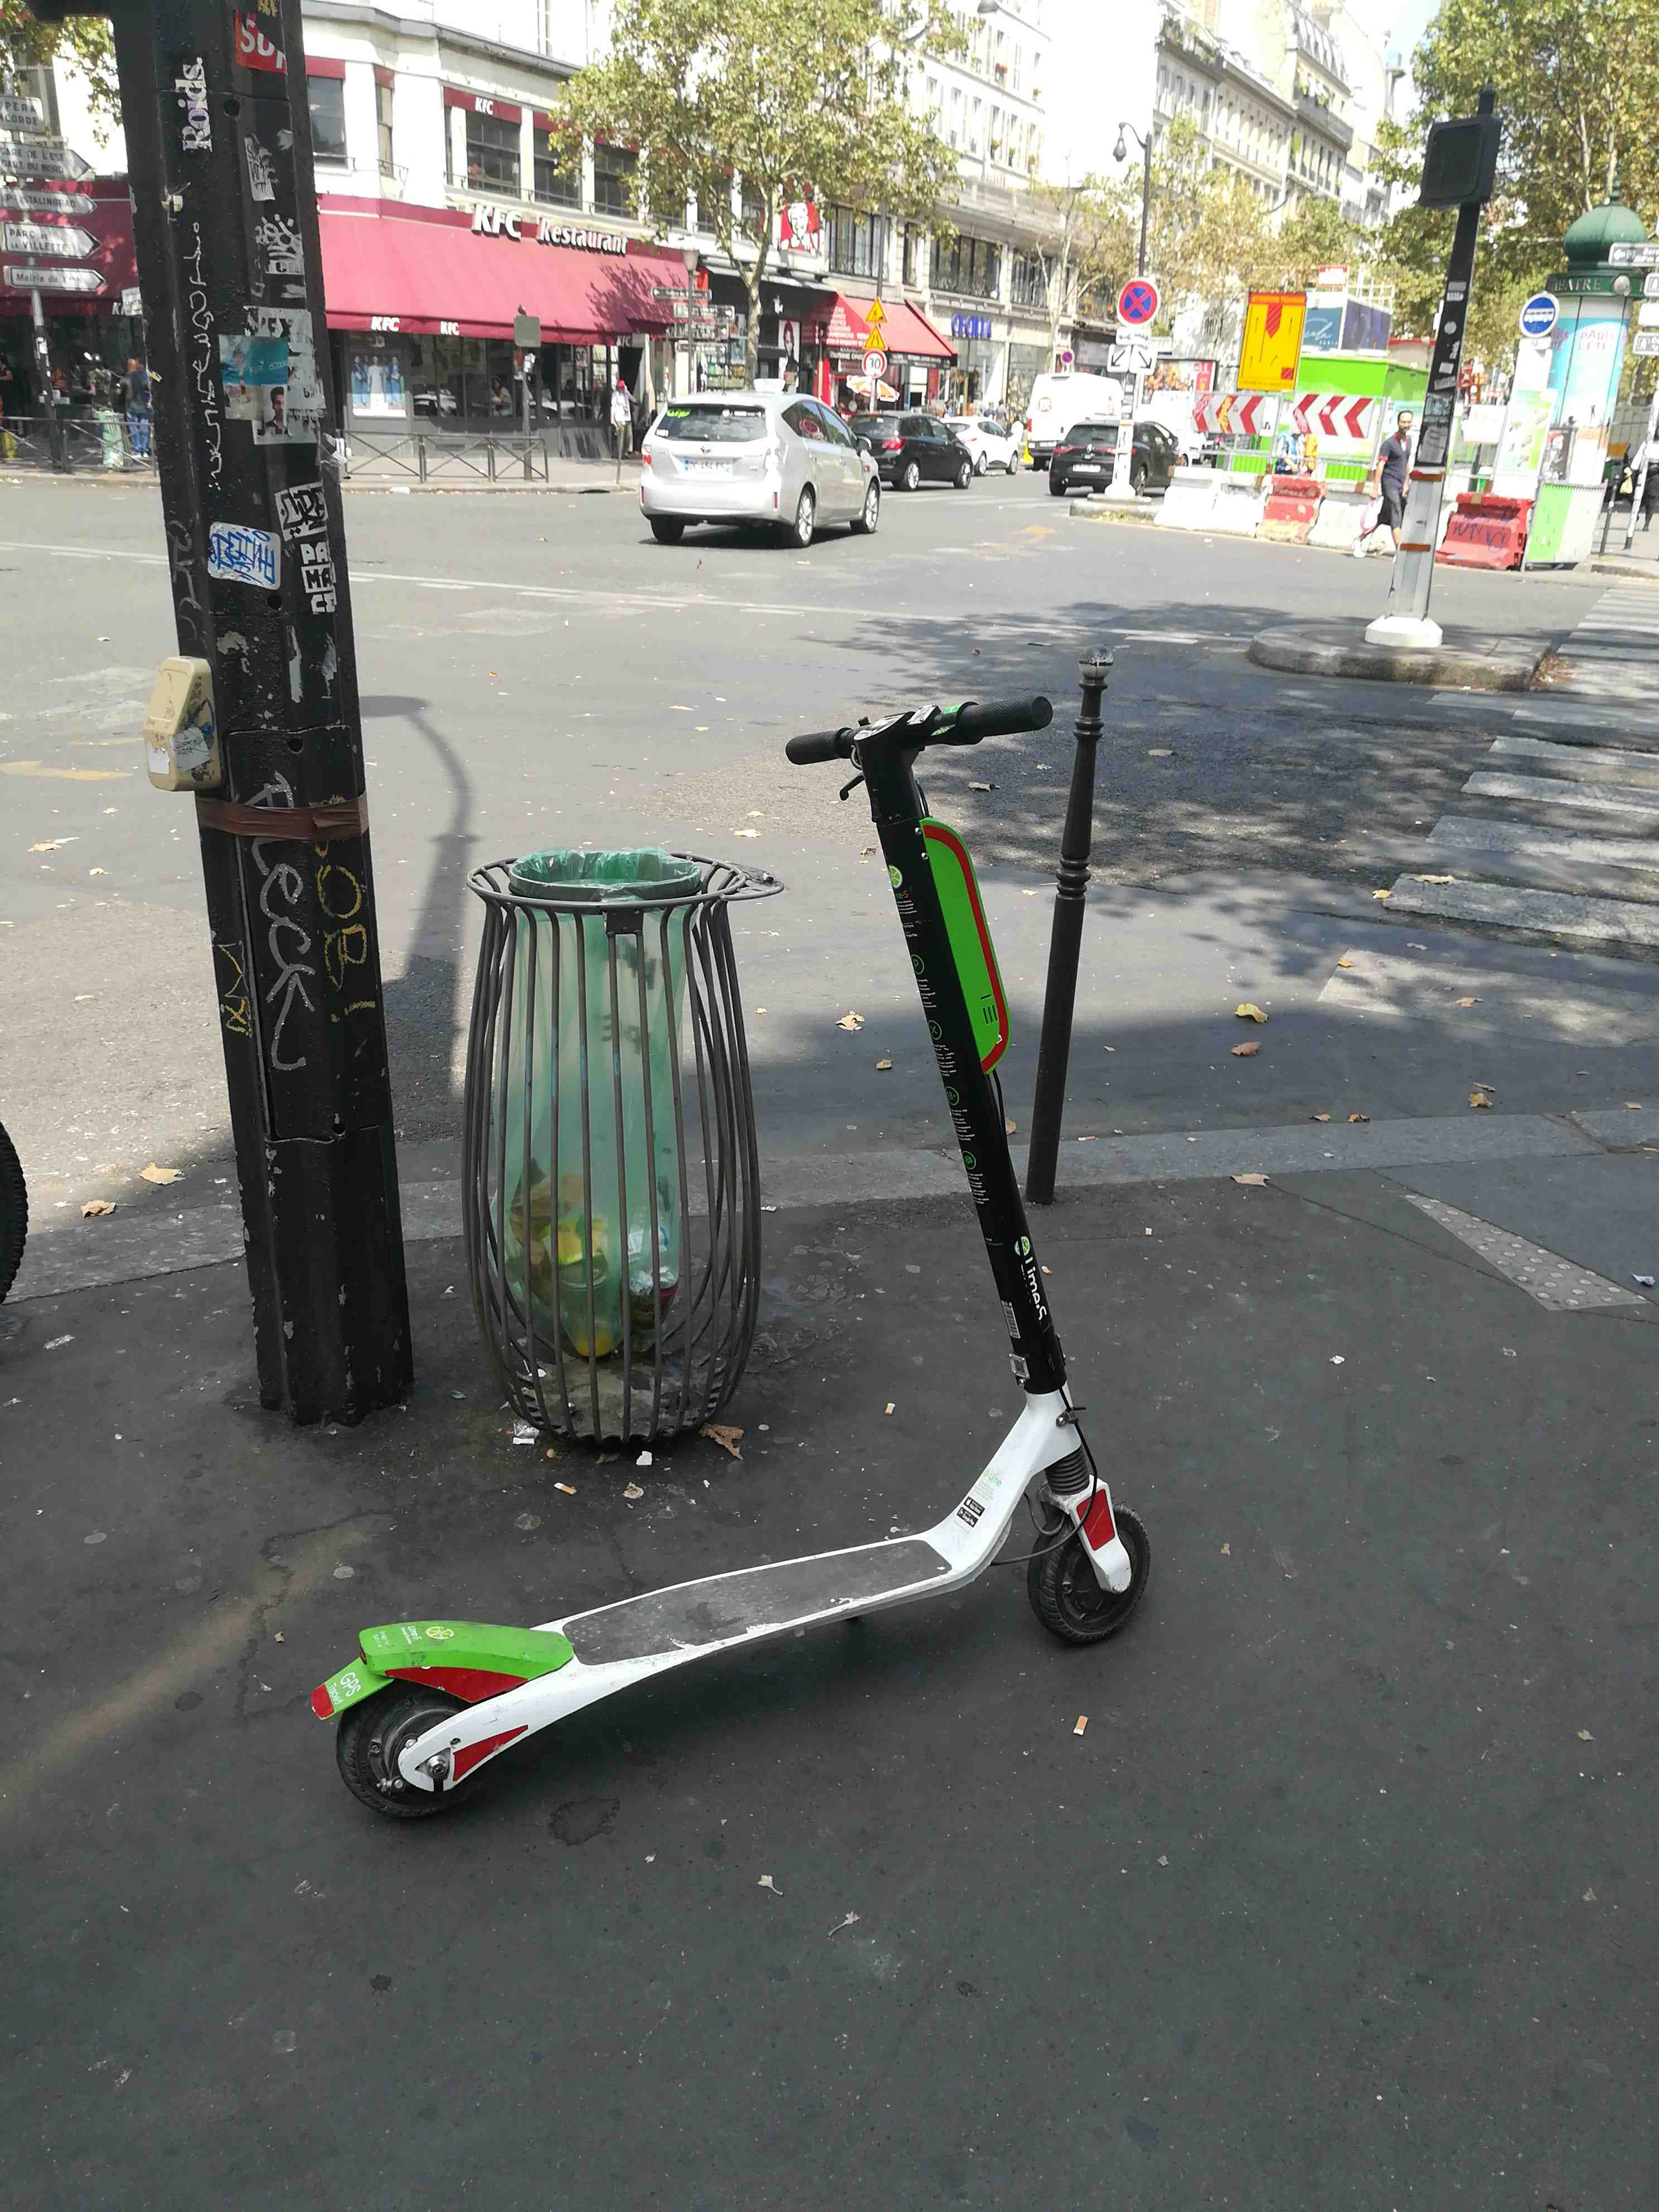scooter: (289, 643, 1162, 1822)
